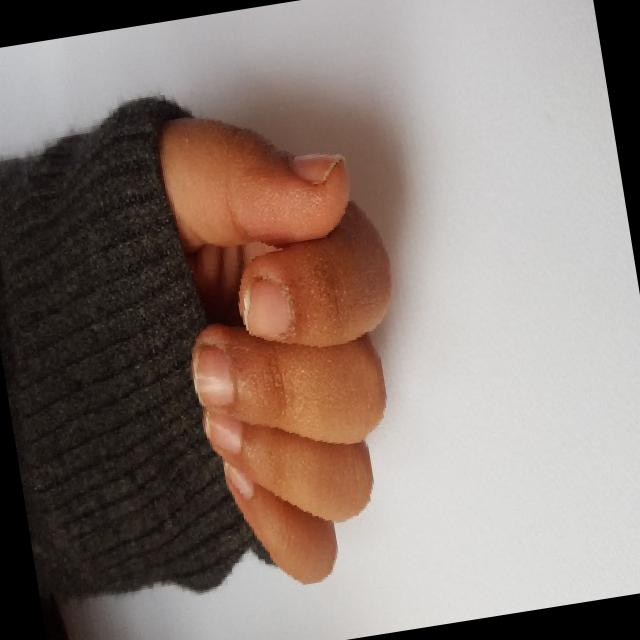Nail: (248, 280, 292, 339), (195, 346, 233, 406), (204, 410, 244, 453), (294, 153, 341, 183), (225, 462, 255, 499)
